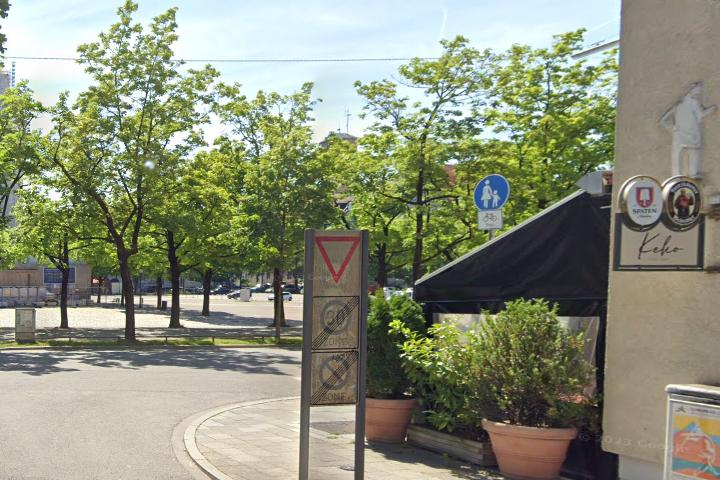traffic_sign: (313, 235, 361, 282), (473, 173, 510, 211), (318, 353, 351, 390), (320, 298, 352, 335)
